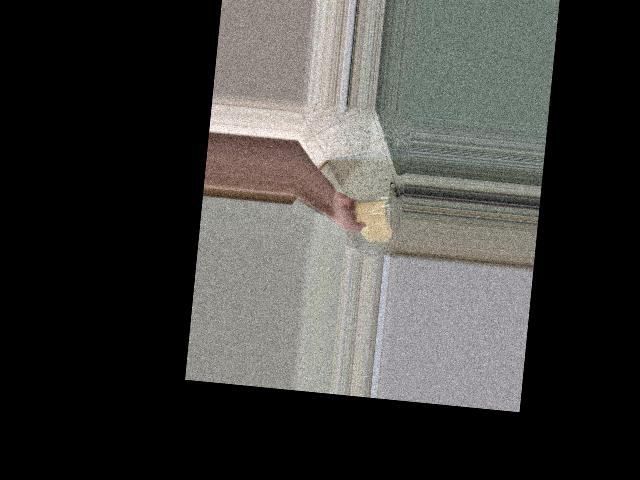cheese: (349, 193, 399, 246)
